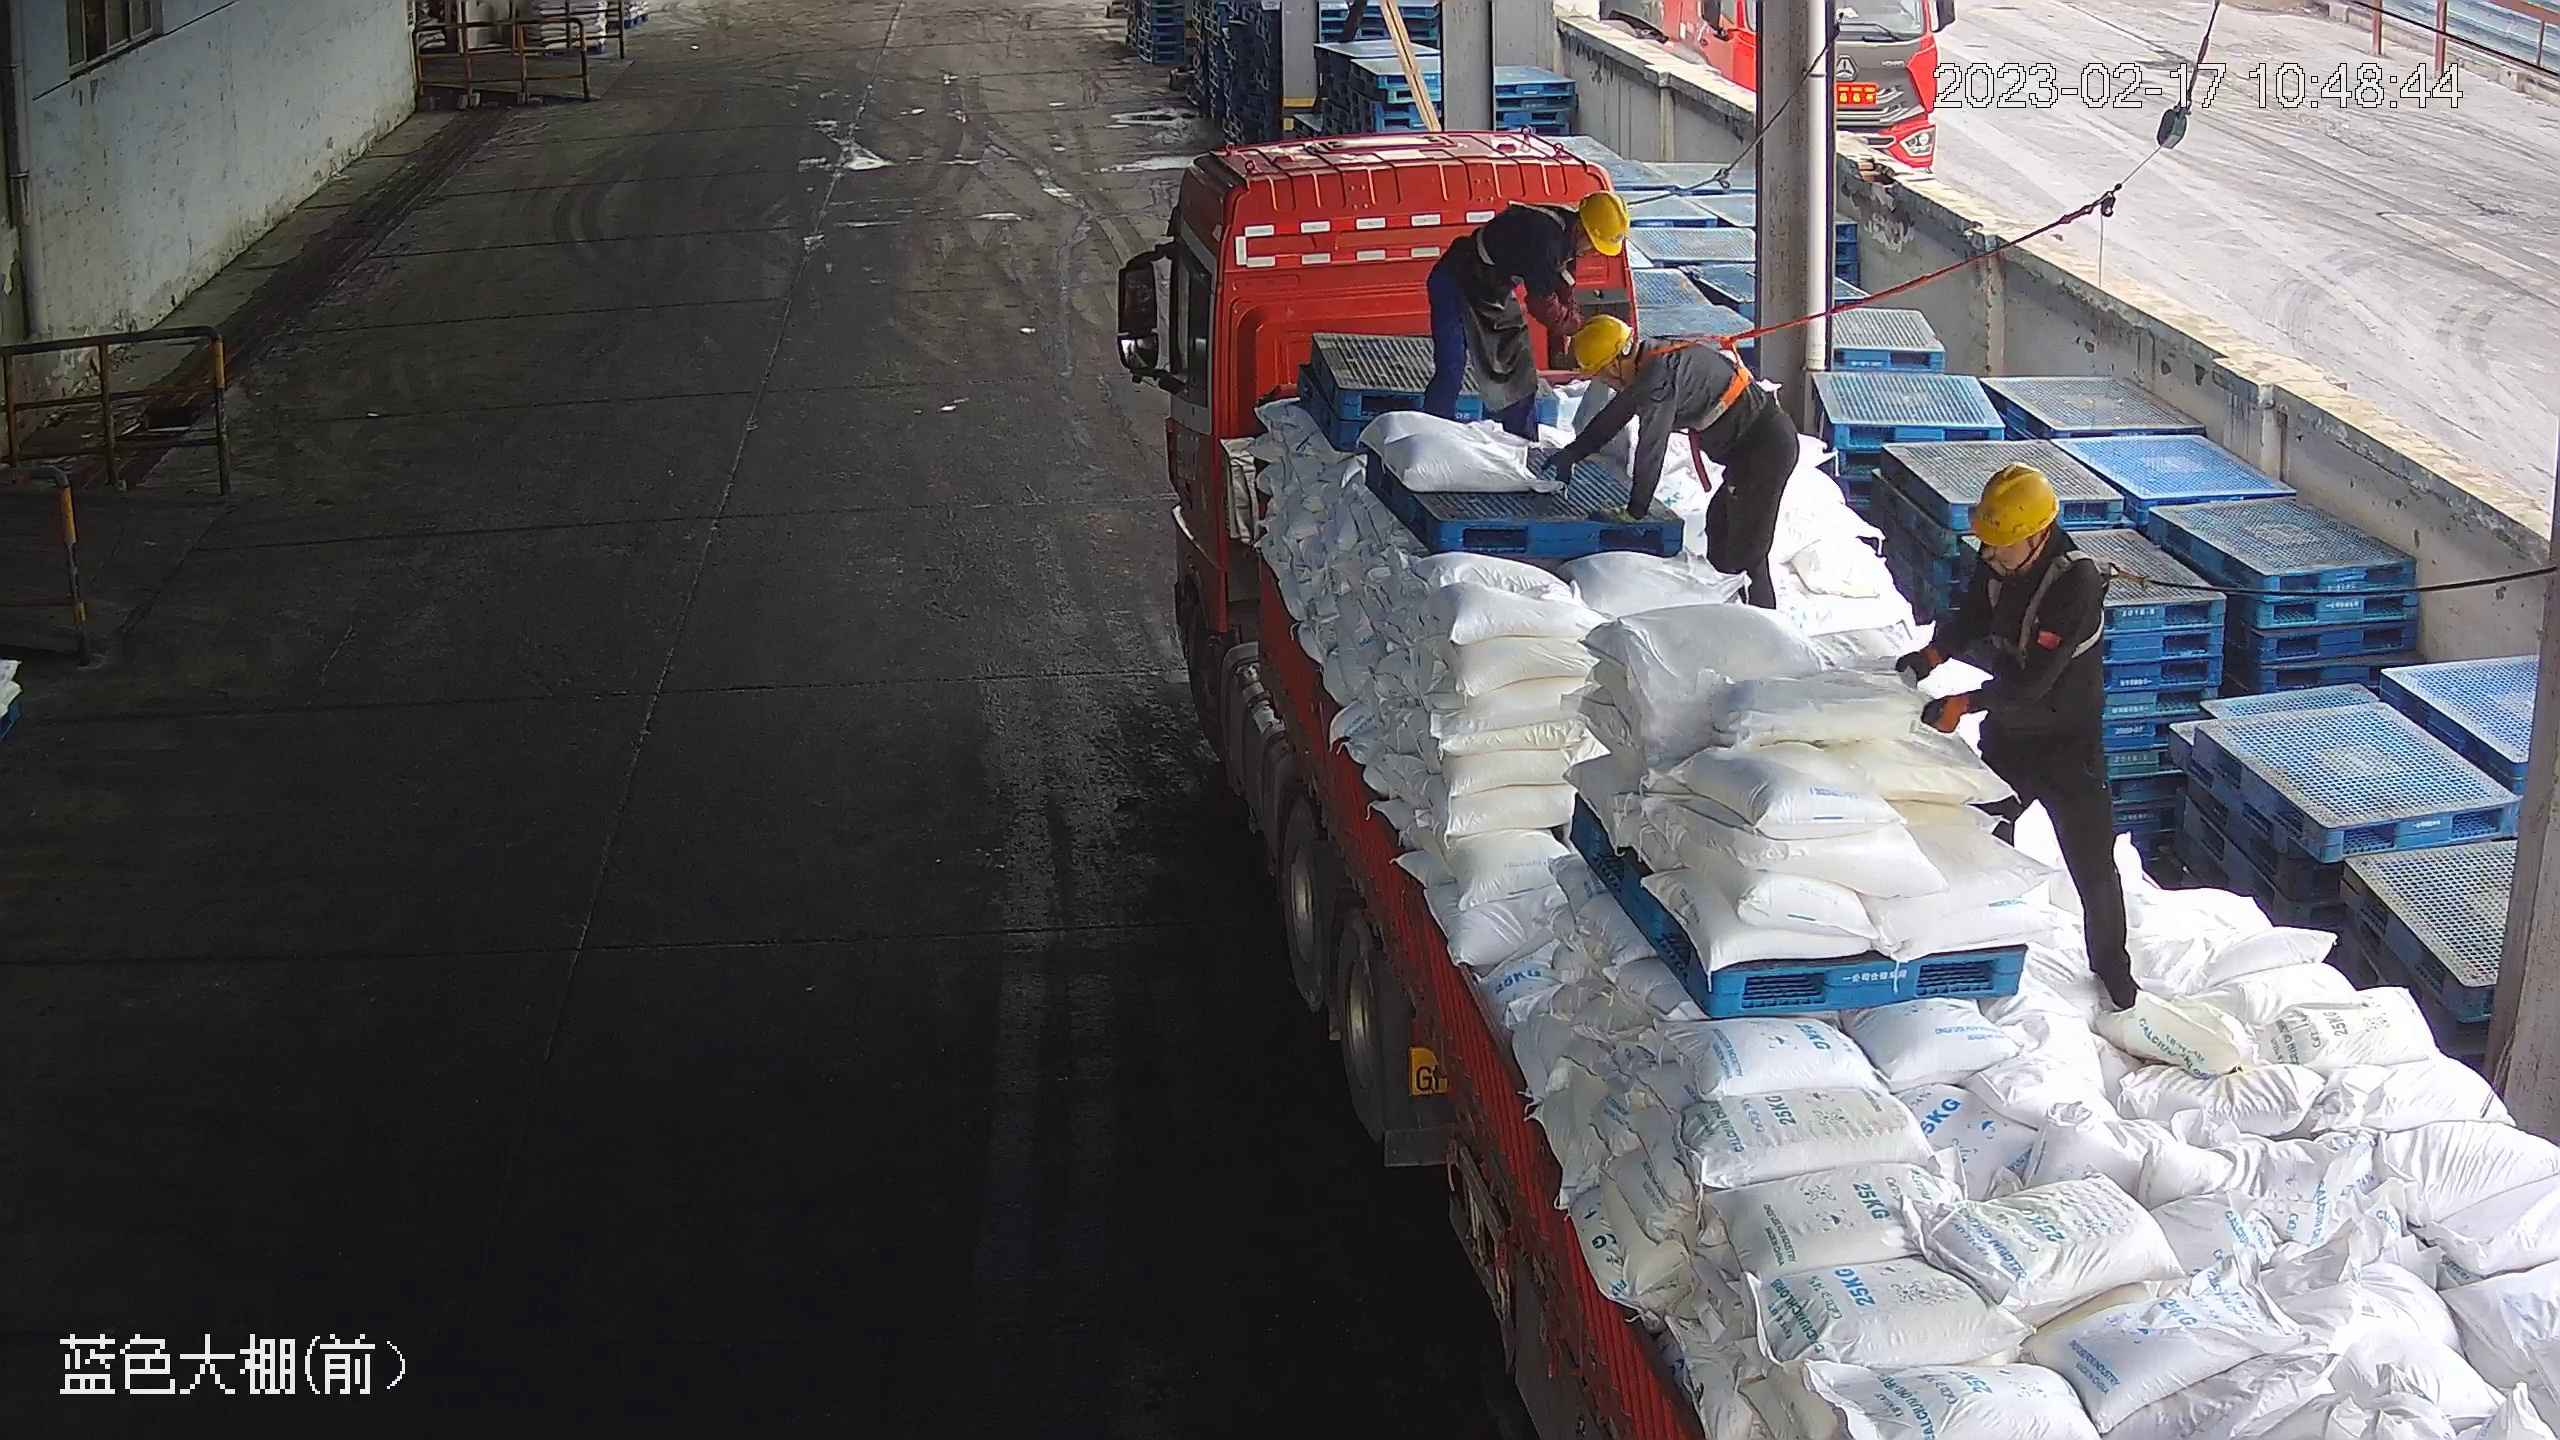belt: (1982, 548, 2120, 665), (1642, 331, 1757, 430), (1476, 193, 1568, 254)
head: (1957, 461, 2109, 616), (1570, 311, 1695, 409), (1497, 191, 1628, 280)
helmet: (1965, 462, 2062, 545), (1571, 310, 1633, 381), (1577, 189, 1630, 258)
people: (1891, 459, 2147, 1019), (1543, 313, 1801, 615), (1421, 190, 1631, 443)
truck: (1108, 125, 2560, 1440)
